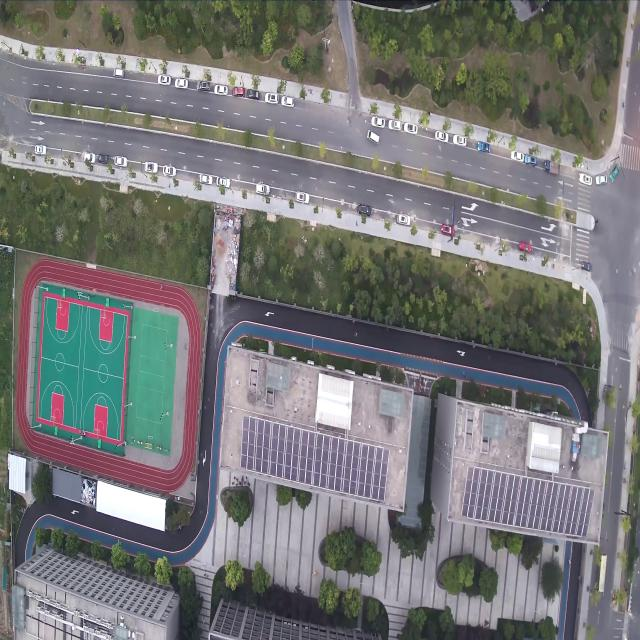UAV: (354, 331, 358, 337)
